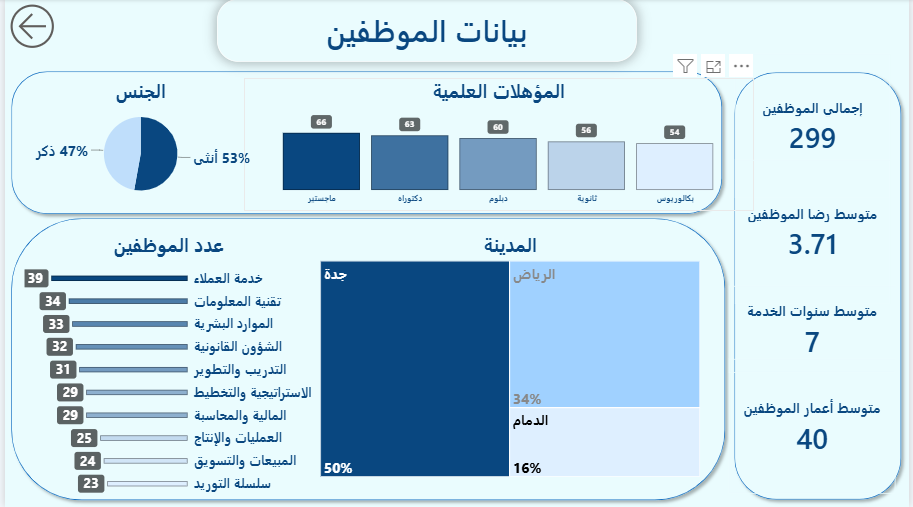

Layout of this report page (visuals, bound fields, positions):
{"tool":"powerbi","page":{"name":"بيانات الموظفين","canvas":[1280,720],"ordinal":1},"visuals":[{"type":"group","id":"g1","title":"Background","box":[0,93.6,1280,625.7],"z":0},{"type":"shape","box":[1025.4,94.8,254.6,623.6],"z":0,"group":"g1"},{"type":"textbox","box":[300.5,0,595.3,89.3],"z":1000},{"type":"shape","box":[0,93.6,1025.4,220.2],"z":1000,"group":"g1"},{"type":"cardVisual","fields":{"Data":["بيانات_الموظفين (2).إجمالي الموظفين"]},"box":[1018.3,61.5,254.6,238.8],"z":2000},{"type":"shape","box":[0,301.7,1029.7,417.6],"z":2000,"group":"g1"},{"type":"cardVisual","fields":{"Data":["بيانات_الموظفين (2).متوسط عمر الموظفين"]},"box":[1009.7,493.4,270.3,226],"z":3000},{"type":"pieChart","title":"الجنس","fields":{"Category":["بيانات_الموظفين (2).الجنس"],"Y":["CountNonNull(بيانات_الموظفين (2).الجنس)"]},"box":[0,111.6,384.7,178.8],"z":4000},{"type":"treemap","title":"المدينة","fields":{"Group":["بيانات_الموظفين (2).المدينة"],"Values":["CountNonNull(بيانات_الموظفين (2).المدينة)"]},"box":[441.9,330.4,547.8,351.8],"z":5000},{"type":"columnChart","title":"المؤهلات العلمية","fields":{"Category":["بيانات_الموظفين (2).المؤهل العلمي"],"Y":["CountNonNull(بيانات_الموظفين (2).الاسم الكامل)"]},"box":[338.9,111.6,722.2,188.8],"z":6000},{"type":"barChart","title":"عدد الموظفين ","fields":{"Category":["بيانات_الموظفين (2).اسم القسم"],"Y":["CountNonNull(بيانات_الموظفين (2).الاسم الكامل)"]},"box":[22.9,330.4,419,379],"z":7000},{"type":"cardVisual","fields":{"Data":["بيانات_الموظفين (2).متوسط سنوات الخدمة"]},"box":[1009.1,389.8,270.7,157.3],"z":8000},{"type":"cardVisual","fields":{"Data":["بيانات_الموظفين.متوسط رضا الموظفين"]},"box":[1018.3,211.7,254.6,238.8],"z":9000},{"type":"actionButton","box":[0,0,140.2,77.2],"z":10000}]}

Visuals, with their boxes in screenshot pixels (x1, y1, x2, y2), scaled from the page's 1280x720 canvas onto the 913x507 screenshot:
"Background" group: 0,66,912,506
shape: 731,67,912,506
textbox: 214,0,639,63
shape: 0,66,731,221
cardVisual - بيانات_الموظفين (2).إجمالي الموظفين: 726,43,908,211
shape: 0,212,734,506
cardVisual - بيانات_الموظفين (2).متوسط عمر الموظفين: 720,347,912,506
"الجنس" pieChart: 0,79,274,204
"المدينة" treemap: 315,233,706,480
"المؤهلات العلمية" columnChart: 242,79,757,212
"عدد الموظفين " barChart: 16,233,315,500
cardVisual - بيانات_الموظفين (2).متوسط سنوات الخدمة: 720,274,912,385
cardVisual - بيانات_الموظفين.متوسط رضا الموظفين: 726,149,908,317
actionButton: 0,0,100,54
